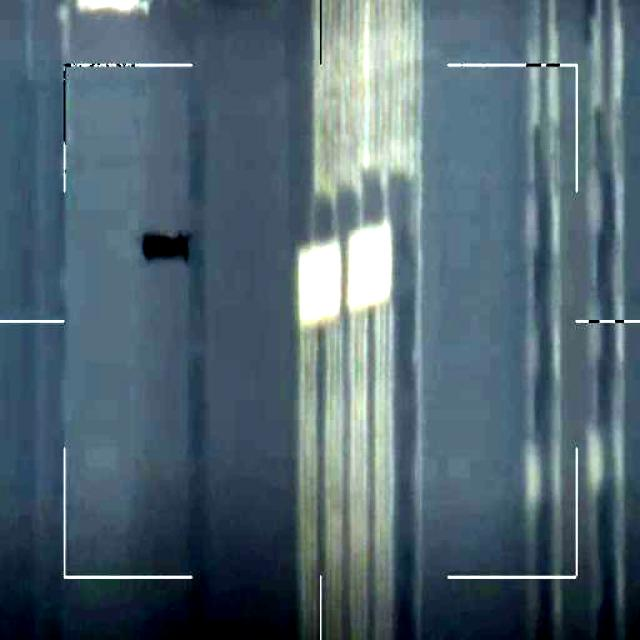bird: (141, 232, 195, 268)
